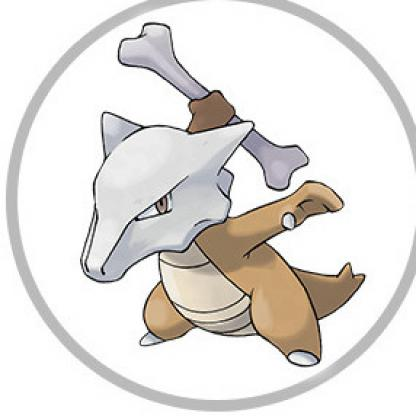Marowak: (57, 11, 362, 377)
